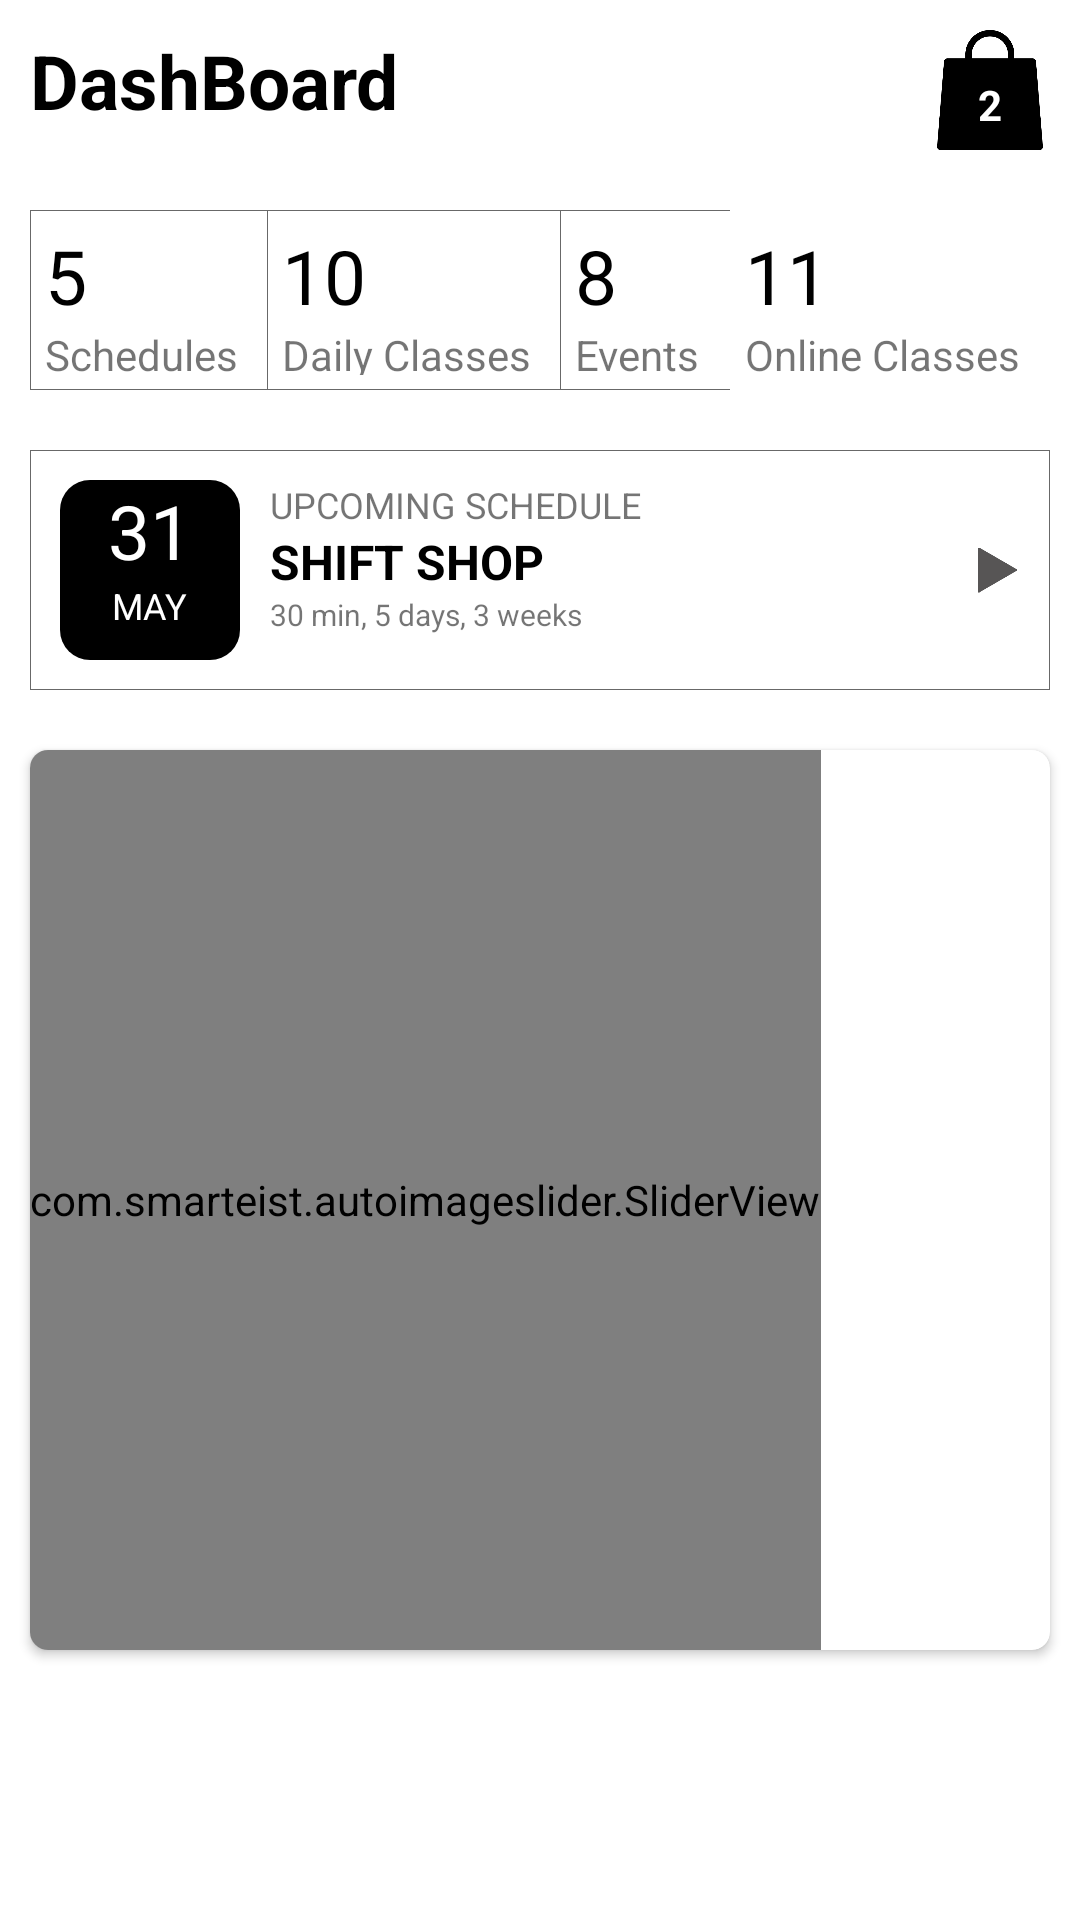

Icons on this 1080 x 1920 Android screen, each with its box as (x1, y1, x2, y2):
bag: (937, 30, 1043, 150)
right arrow: (978, 548, 1017, 593)
